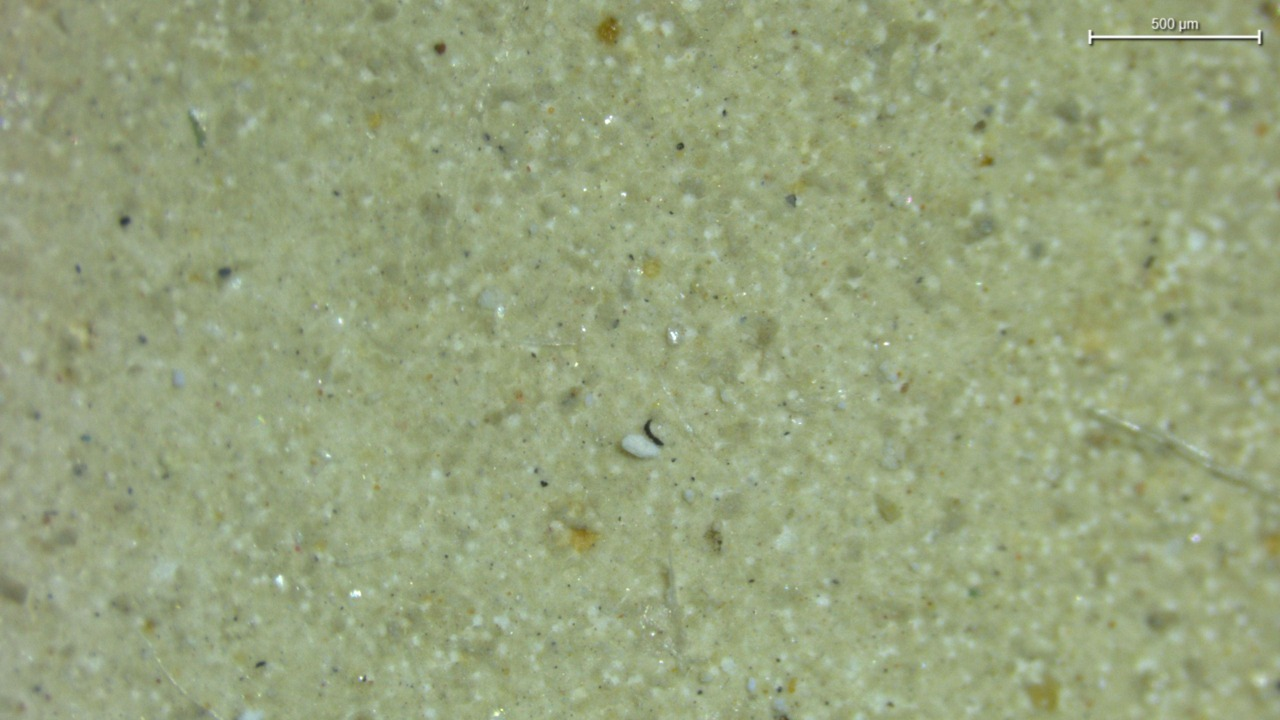microplastic_fragment: (621, 434, 660, 458), (477, 288, 502, 309), (667, 328, 681, 345)
